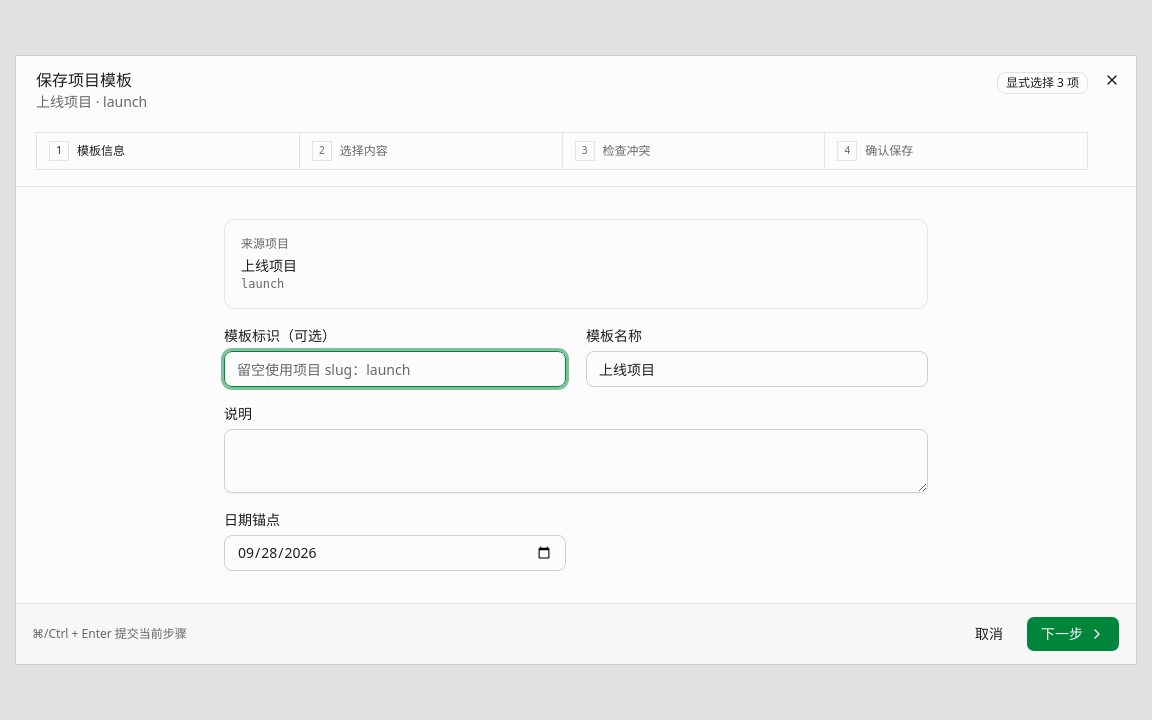
Test: ProjectTemplateCaptureWizard › defaults only pending and waiting tasks plus active series
Click the button "下一步": x=1073, y=634 [1026, 616, 1120, 652]
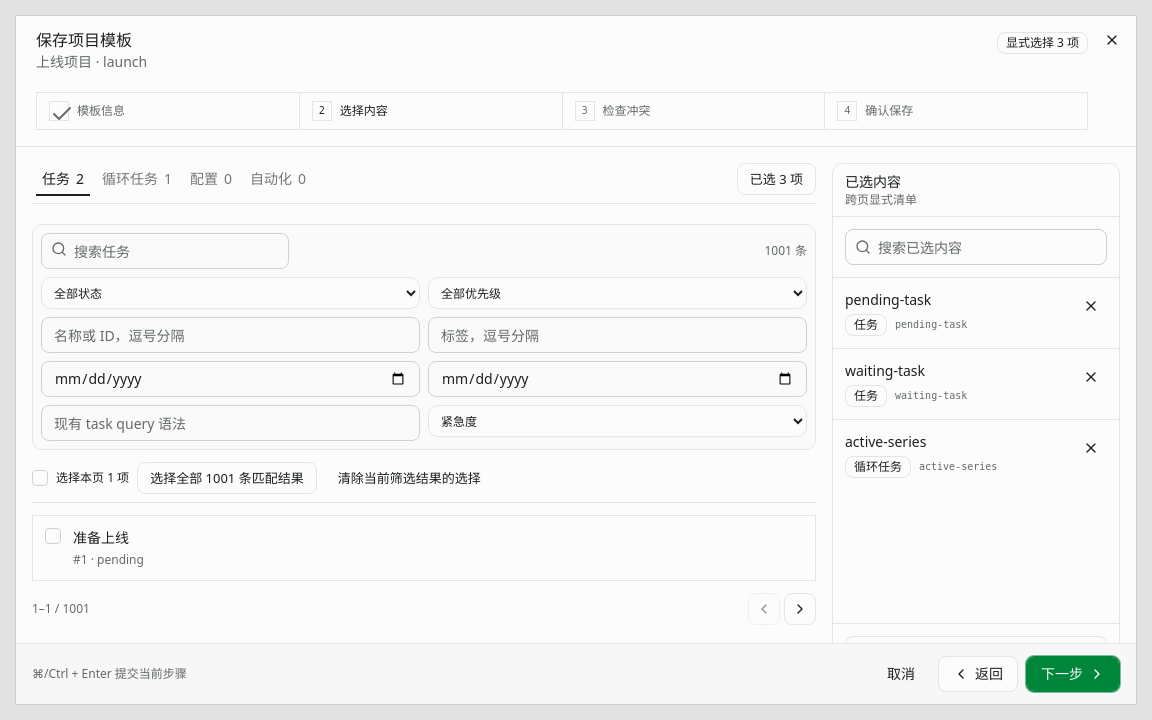
Now the tab "任务 2" is shown, box [35, 166, 91, 192]
Now the button "已选 3 项" is shown, box [737, 163, 816, 195]
